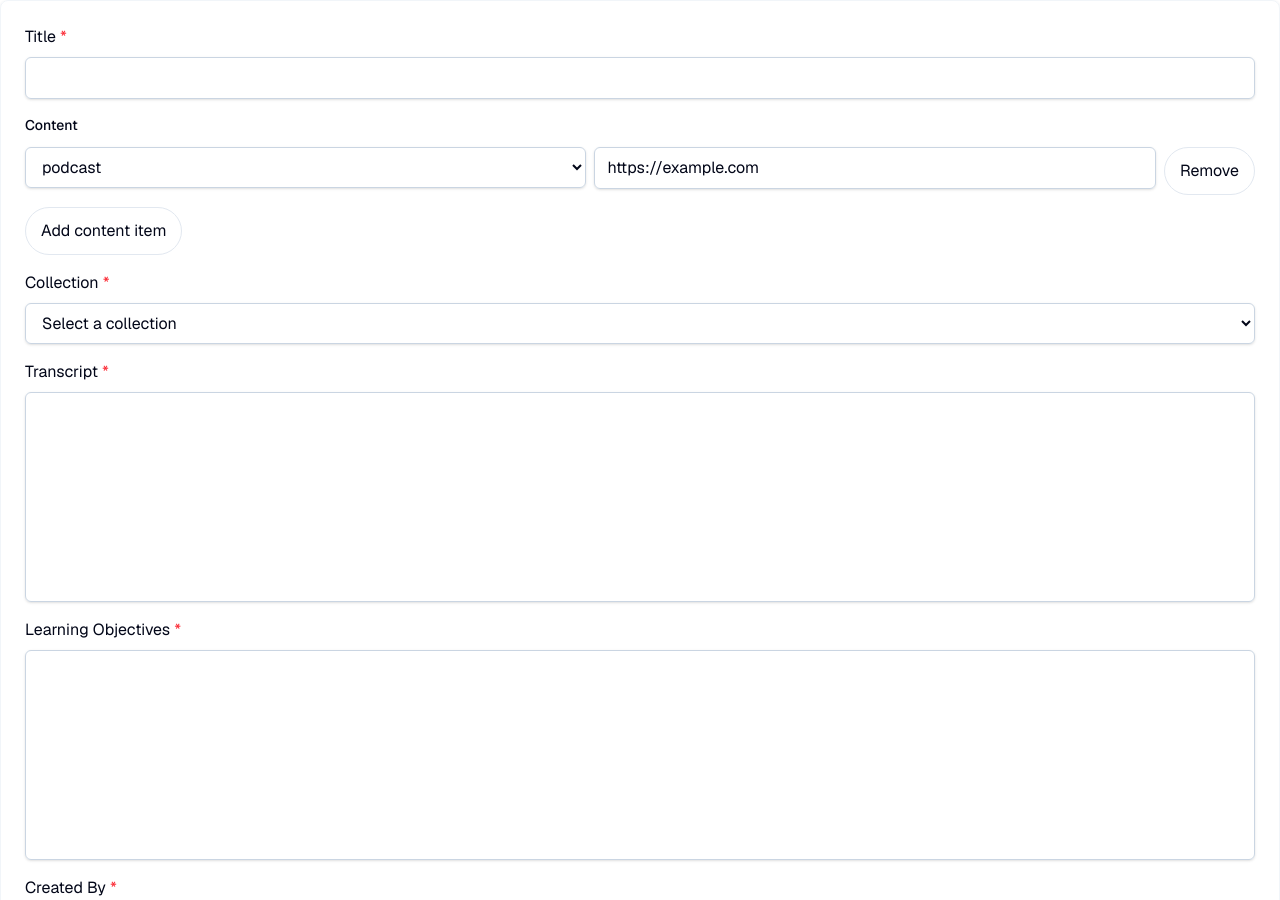
Test: LearningUnitForm - content items › removes a content item when Remove is clicked
This screenshot has width=1280, height=900.
Click the button "Remove": (1209, 171) top-left (1164, 147), bottom-right (1255, 195)
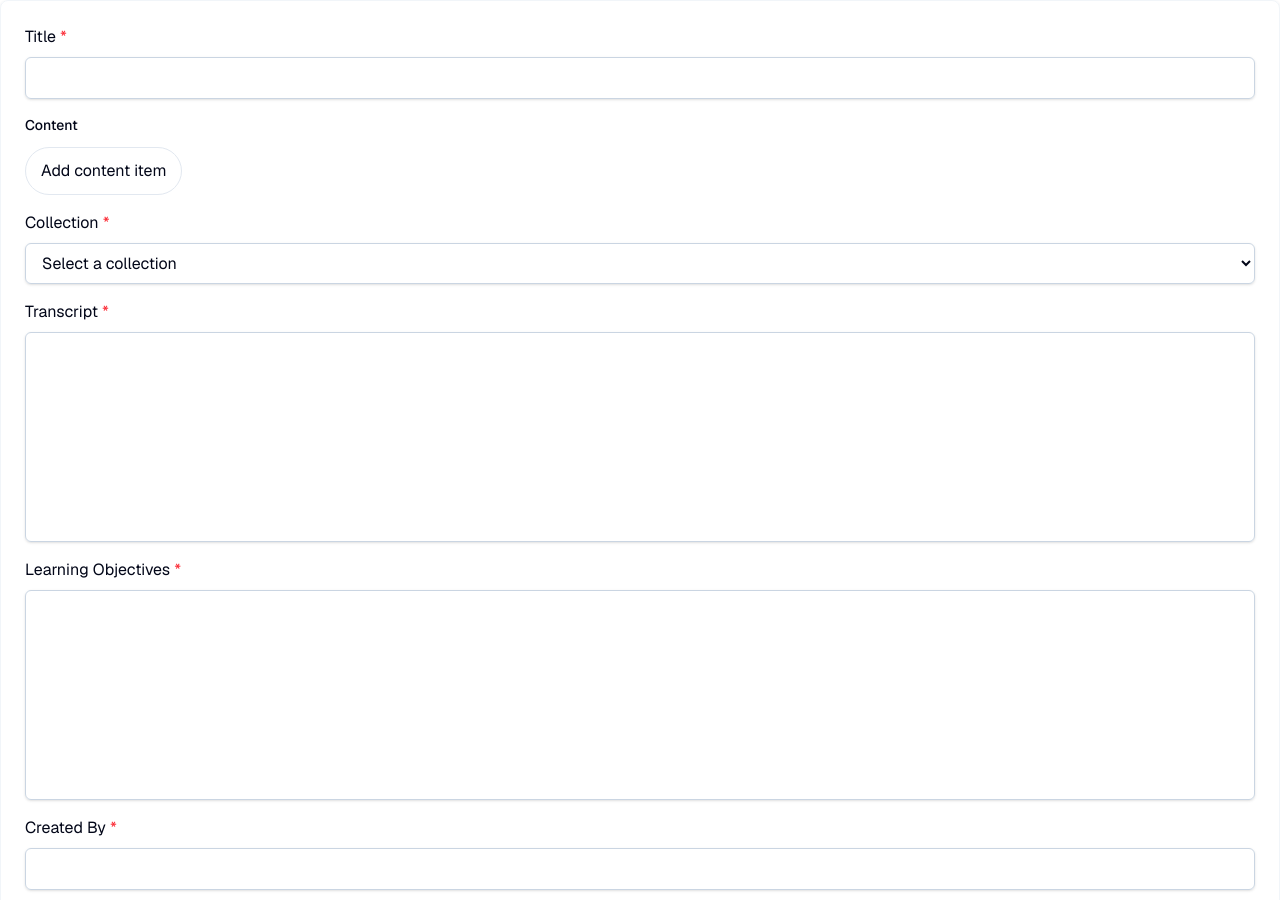
Check: the field with placeholder "podcast url" is gone
